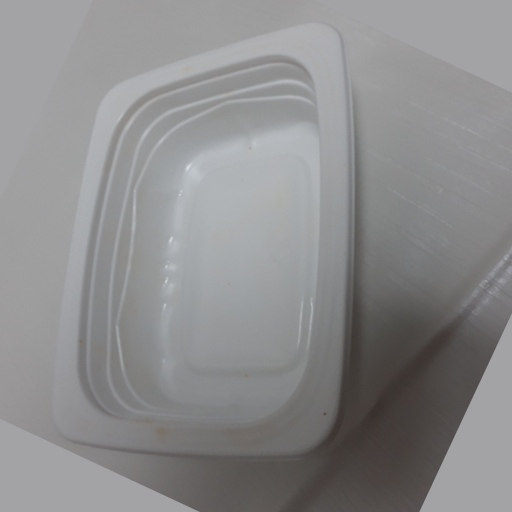Plastic_4: (54, 20, 356, 458)
